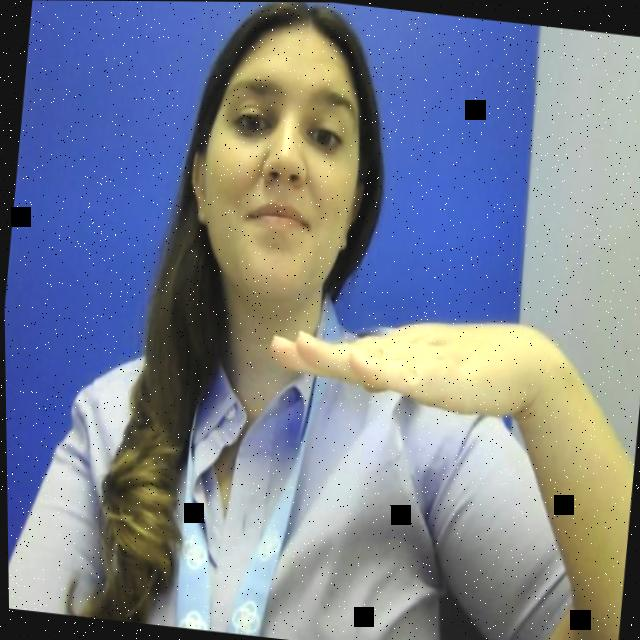Paper: (247, 299, 513, 436)
